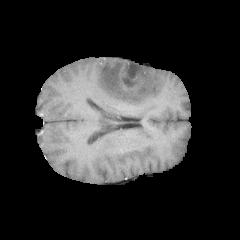glioma: (95, 60, 159, 105)
